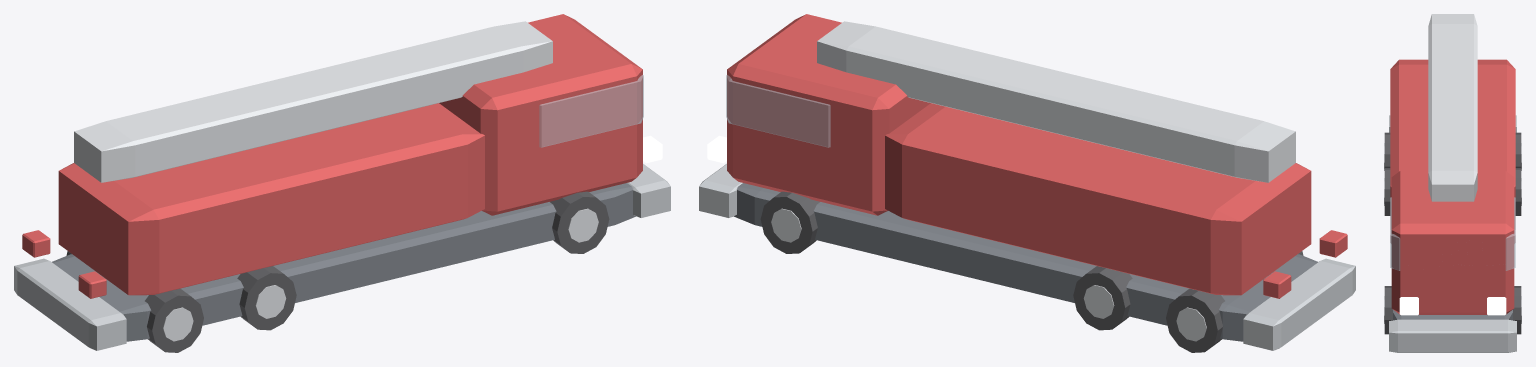
File: b15_aerial_ladder_fire_truck.glb
3 views of the same model, side by side, from view 1: azimuth 30°, elevation 25°; view 2: azimuth 150°, elevation 25°; view 3: azimuth 270°, elevation 25° (orthographic). The views are drawn at different scales.
Parts seen in each view (by area): view 1: b15_aerial_ladder_fire_truck; view 2: b15_aerial_ladder_fire_truck; view 3: b15_aerial_ladder_fire_truck.
Boxes of the visible parts, x1=… form: b15_aerial_ladder_fire_truck: x1=14, y1=14, x2=670, y2=352; b15_aerial_ladder_fire_truck: x1=699, y1=14, x2=1355, y2=352; b15_aerial_ladder_fire_truck: x1=1384, y1=14, x2=1521, y2=352.
Bounding box in the file's own units: 11.58 × 3.69 × 3.08.
